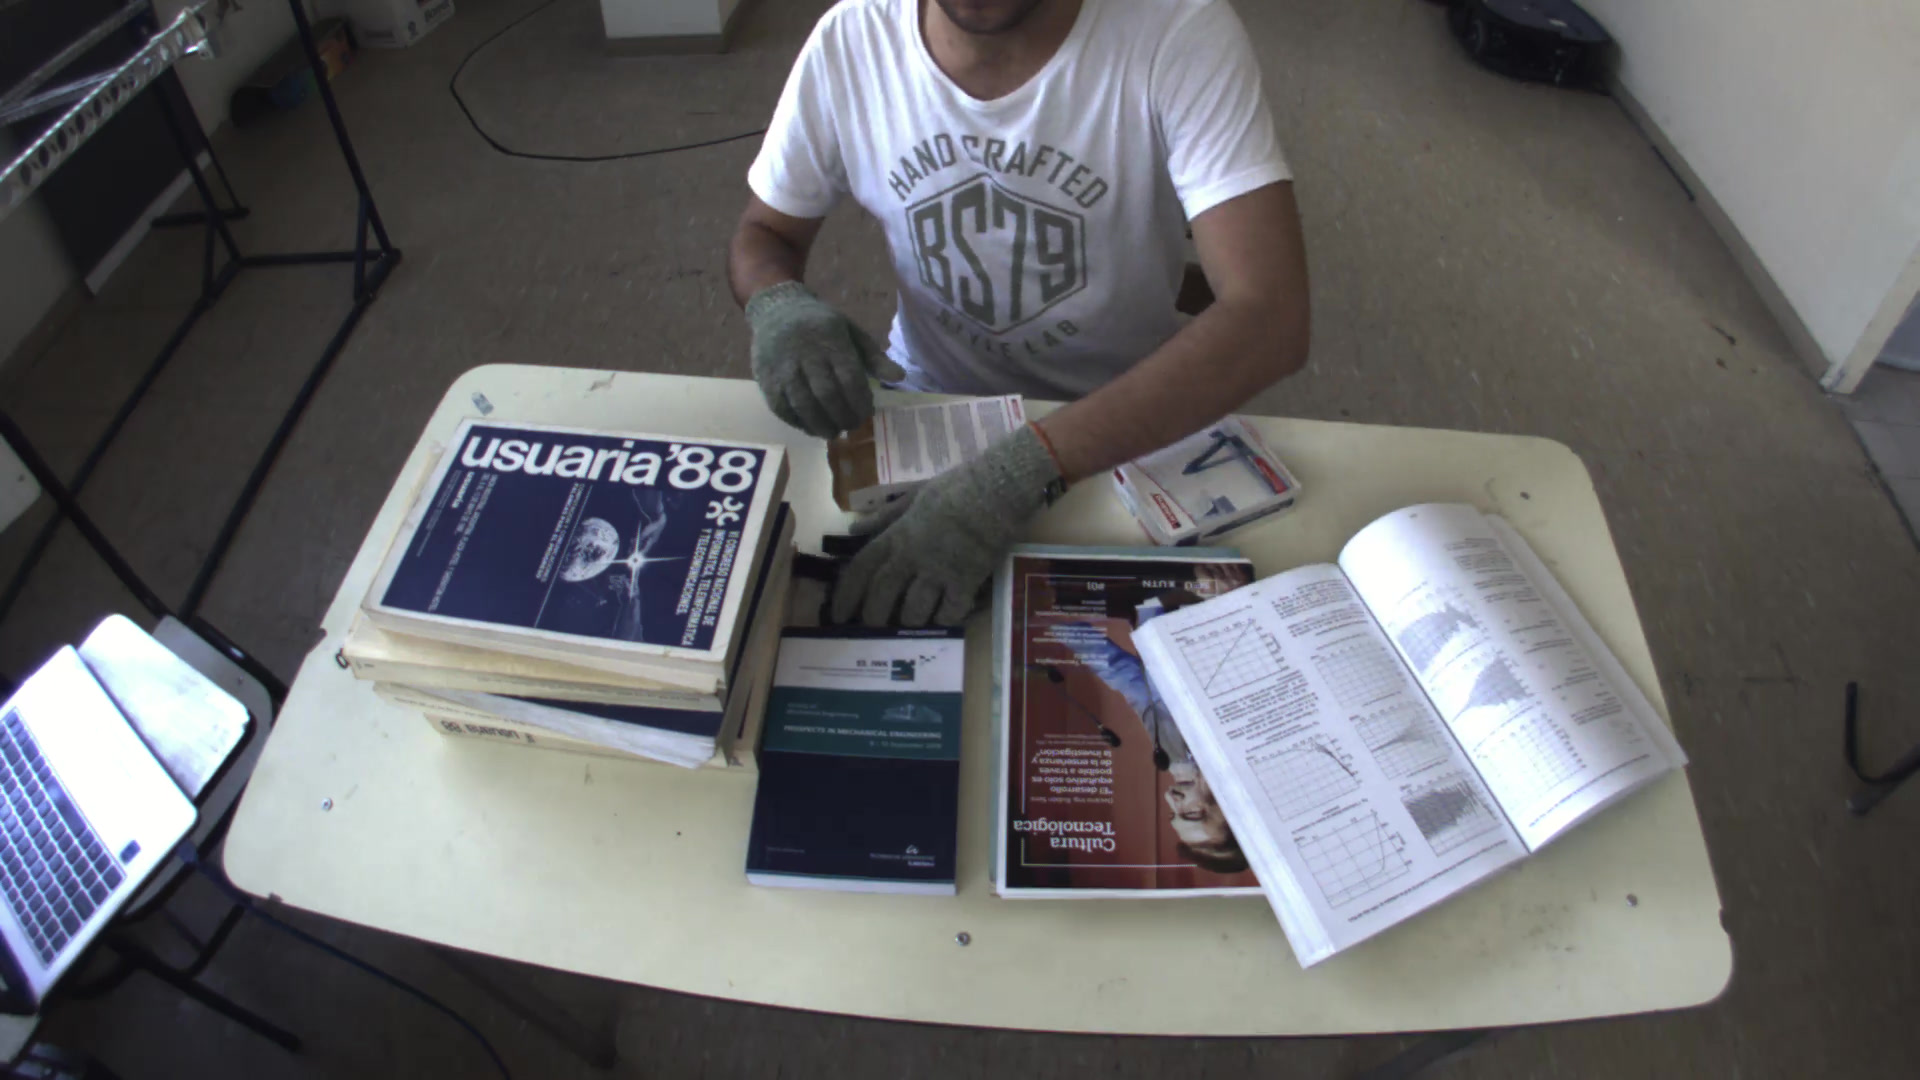hand: (833, 431, 1065, 620), (723, 276, 889, 438)
